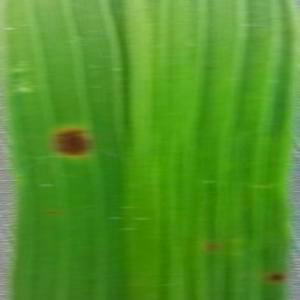0 BrownSpot: (40, 115, 104, 168), (265, 264, 290, 289), (200, 238, 225, 257)
